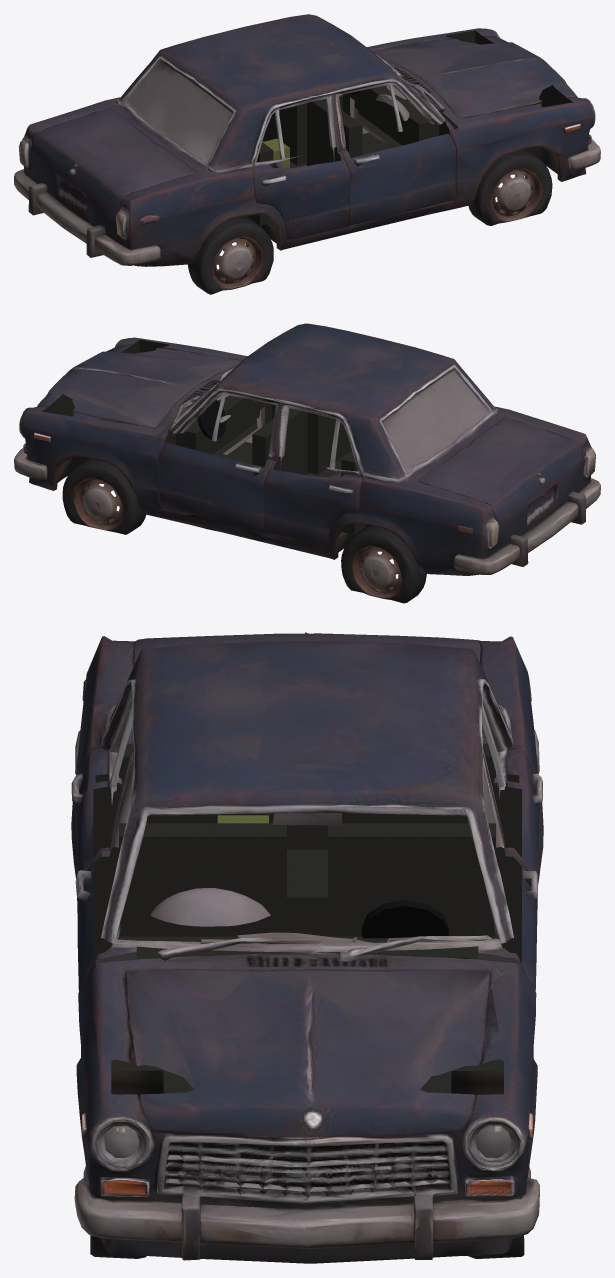
Rendered from car_abandoned_sedan.glb.
3 views of the same model, one above another, from view 1: azimuth 30°, elevation 25°; view 2: azimuth 150°, elevation 25°; view 3: azimuth 270°, elevation 25° (orthographic). The views are drawn at different scales.
Visible parts, largest first — view 1: body, trunk, hood, door_front_2, door_front_1, wheel_3, wheel_1; view 2: body, trunk, hood, door_back_2, door_back_1, wheel_4, wheel_2; view 3: body, hood, trunk, door_front_2, door_back_2, door_front_1, door_back_1.
Part boxes in pixels (left/top/right/bottom): body: left=14, top=14, right=600, bottom=294; trunk: left=25, top=99, right=218, bottom=211; hood: left=367, top=33, right=556, bottom=132; door_front_2: left=336, top=78, right=458, bottom=225; door_front_1: left=269, top=94, right=349, bottom=241; wheel_3: left=486, top=150, right=548, bottom=222; wheel_1: left=207, top=219, right=270, bottom=290; body: left=14, top=323, right=600, bottom=603; trunk: left=396, top=409, right=589, bottom=520; hood: left=57, top=342, right=247, bottom=441; door_back_2: left=156, top=388, right=278, bottom=534; door_back_1: left=265, top=403, right=345, bottom=551; wheel_4: left=63, top=458, right=125, bottom=530; wheel_2: left=342, top=525, right=404, bottom=598; body: left=71, top=641, right=543, bottom=1263; hood: left=91, top=938, right=522, bottom=1107; trunk: left=84, top=632, right=530, bottom=735; door_front_2: left=75, top=751, right=136, bottom=1057; door_back_2: left=478, top=756, right=537, bottom=1057; door_front_1: left=72, top=682, right=132, bottom=876; door_back_1: left=481, top=683, right=542, bottom=874.
Bounding box in the file's own units: 4.5 × 1.47 × 1.84.
Materials: 7 (4 with a texture image).
